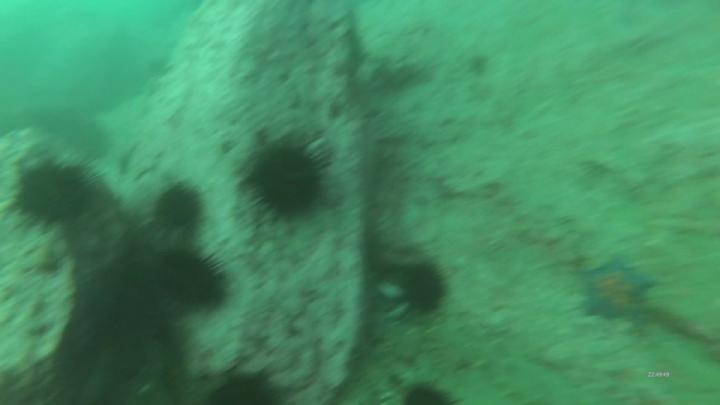echinus: (244, 135, 335, 221), (11, 152, 100, 234), (154, 246, 235, 316), (394, 256, 458, 322), (202, 366, 291, 405), (151, 180, 209, 236), (397, 378, 462, 405)
starfish: (577, 252, 660, 331)
